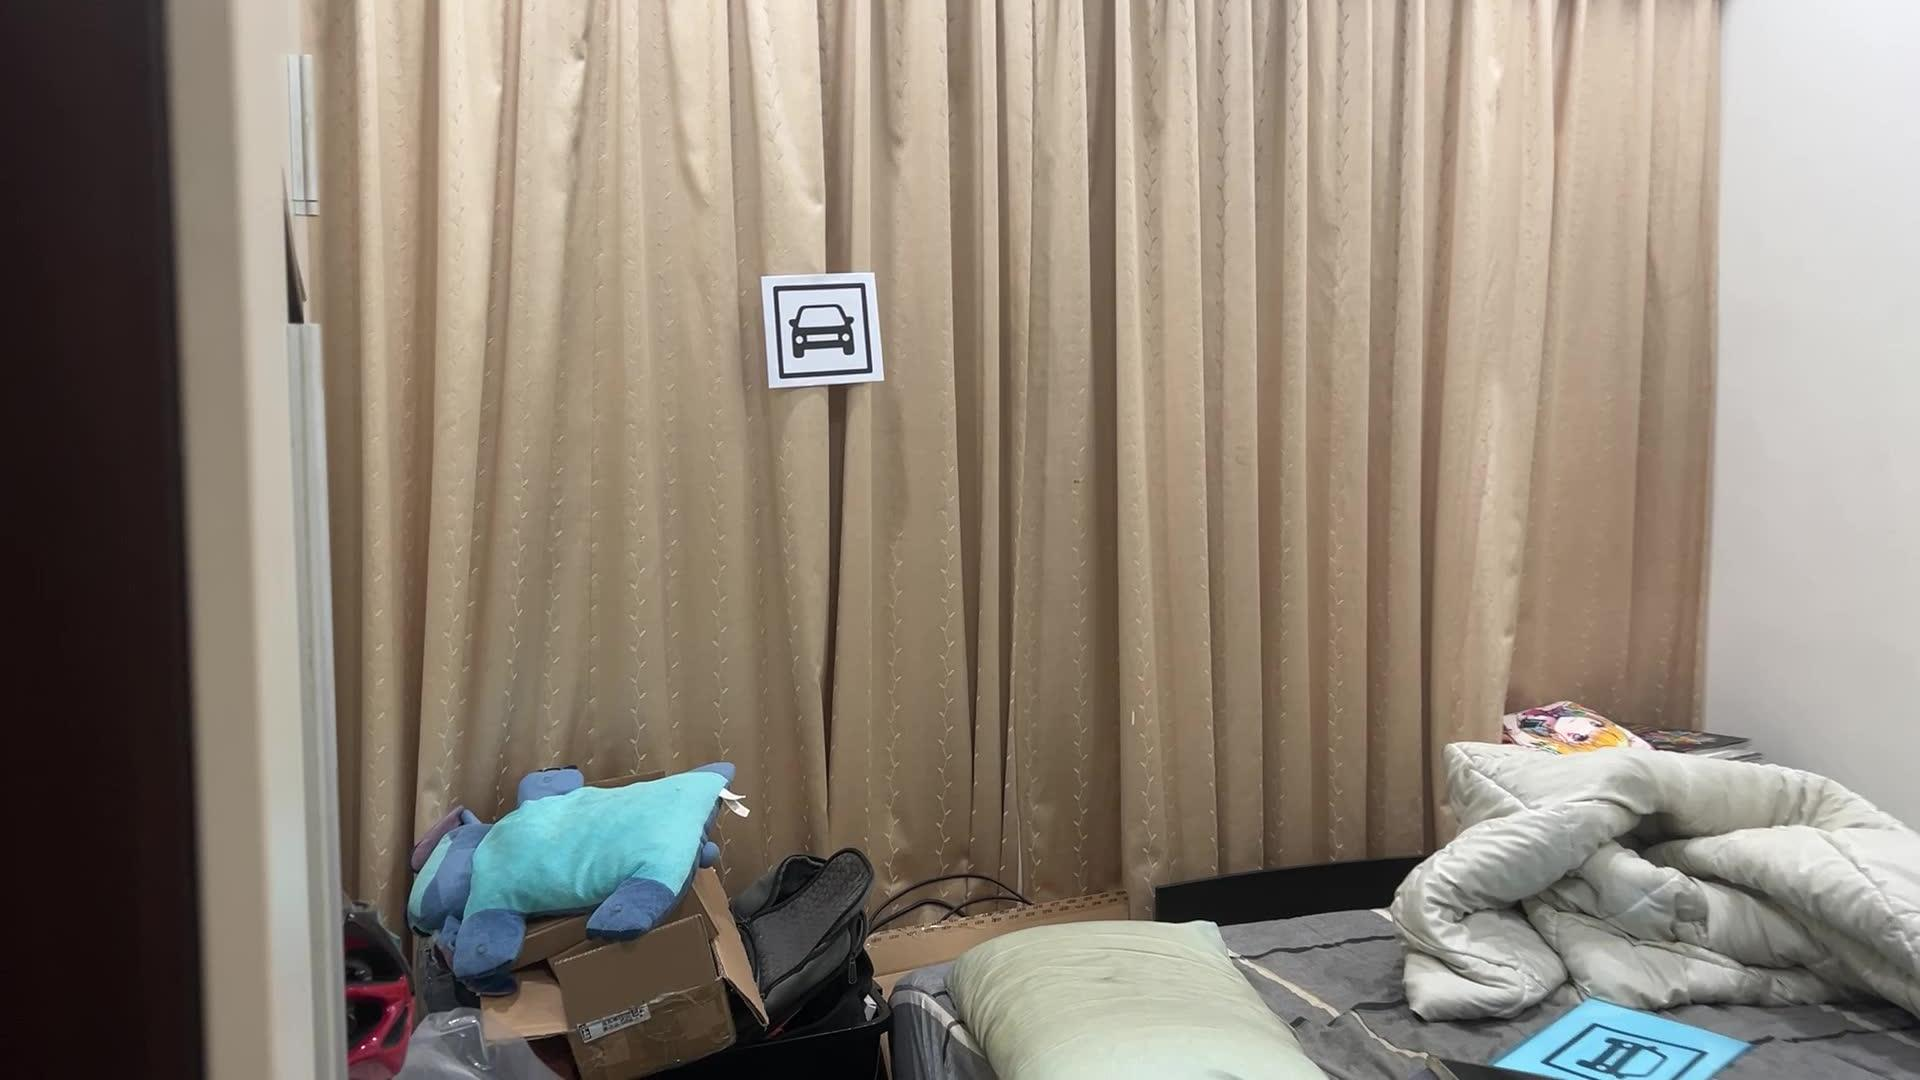car_img: (770, 281, 874, 380)
